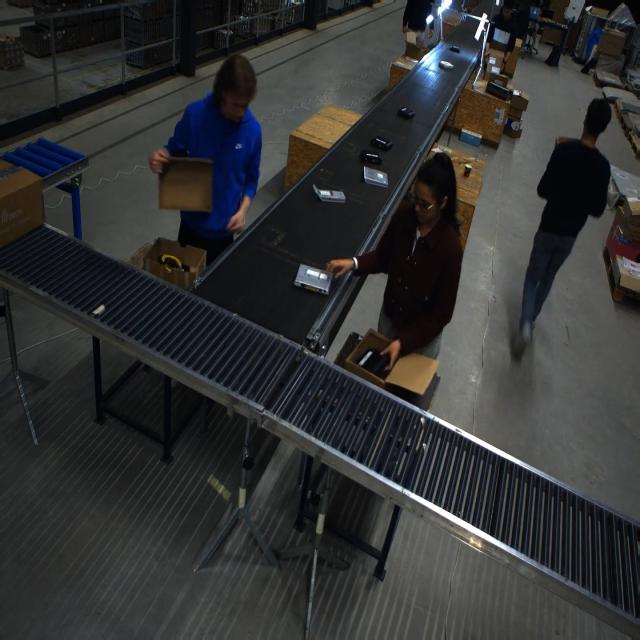box: (342, 326, 436, 407), (0, 164, 44, 250), (142, 237, 209, 290), (158, 157, 214, 212), (615, 194, 640, 242), (402, 39, 432, 67), (597, 28, 626, 56), (505, 87, 528, 118), (540, 24, 564, 46), (488, 72, 508, 89), (588, 6, 609, 18)
product: (293, 264, 332, 296), (312, 183, 344, 203), (363, 166, 387, 187), (359, 149, 381, 164), (370, 136, 392, 151), (396, 106, 415, 120), (438, 60, 454, 70), (449, 45, 460, 53)
